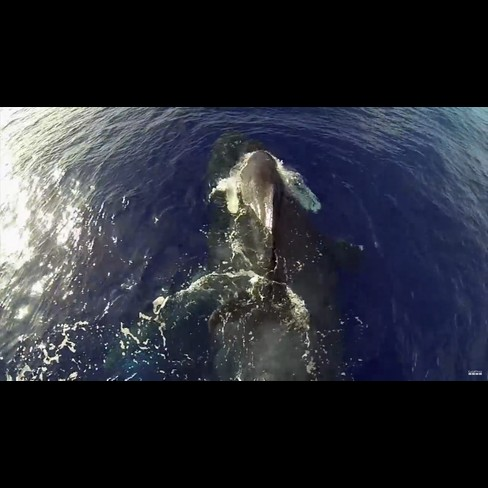hump: (99, 125, 365, 379), (219, 139, 302, 347)
